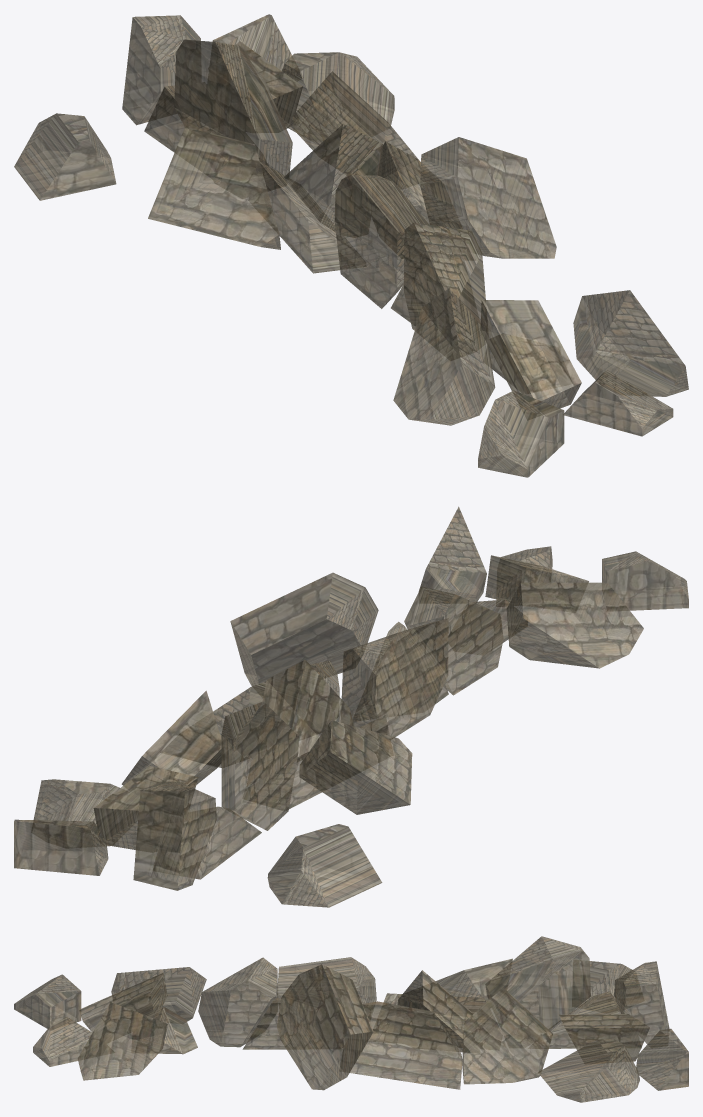
The model's file is BreakWallLarge_000018.obj.
The picture shows the model from 3 angles, top to bottom: view 1: azimuth 30°, elevation 25°; view 2: azimuth 150°, elevation 25°; view 3: azimuth 270°, elevation 25°; orthographic projection. The views are drawn at different scales.
Parts seen in each view (by area): view 1: Cube.057_cell.018_Cube.057_cell.017, Cube.057_cell.017_Cube.057_cell.016, Cube.057_cell.014_Cube.057_cell.013, Cube.057_cell.021_Cube.057_cell.020, Cube.057_cell.013_Cube.057_cell.012, Cube.057_cell.007_Cube.057_cell.006, Cube.057_cell.011_Cube.057_cell.010, Cube.057_cell.010_Cube.057_cell.009, Cube.057_cell.001_Cube.057_cell.000, Cube.057_cell.015_Cube.057_cell.014, Cube.057_cell.003_Cube.057_cell.002, Cube.057_cell_Cube.057_cell.022 (+8 smaller); view 2: Cube.057_cell.018_Cube.057_cell.017, Cube.057_cell.021_Cube.057_cell.020, Cube.057_cell.013_Cube.057_cell.012, Cube.057_cell.014_Cube.057_cell.013, Cube.057_cell.017_Cube.057_cell.016, Cube.057_cell.003_Cube.057_cell.002, Cube.057_cell.001_Cube.057_cell.000, Cube.057_cell.010_Cube.057_cell.009, Cube.057_cell.019_Cube.057_cell.018, Cube.057_cell_Cube.057_cell.022, Cube.057_cell.020_Cube.057_cell.019, Cube.057_cell.015_Cube.057_cell.014 (+8 smaller); view 3: Cube.057_cell.018_Cube.057_cell.017, Cube.057_cell.004_Cube.057_cell.003, Cube.057_cell.020_Cube.057_cell.019, Cube.057_cell.014_Cube.057_cell.013, Cube.057_cell.007_Cube.057_cell.006, Cube.057_cell.010_Cube.057_cell.009, Cube.057_cell.012_Cube.057_cell.011, Cube.057_cell.003_Cube.057_cell.002, Cube.057_cell.016_Cube.057_cell.015, Cube.057_cell.019_Cube.057_cell.018, Cube.057_cell_Cube.057_cell.022, Cube.057_cell.021_Cube.057_cell.020 (+10 smaller).
Part boxes in pixels (box(x1,y1,x2,y2)): Cube.057_cell.018_Cube.057_cell.017: box(420, 137, 556, 258); Cube.057_cell.017_Cube.057_cell.016: box(148, 126, 280, 249); Cube.057_cell.014_Cube.057_cell.013: box(174, 39, 292, 175); Cube.057_cell.021_Cube.057_cell.020: box(393, 288, 495, 425); Cube.057_cell.013_Cube.057_cell.012: box(334, 174, 428, 308); Cube.057_cell.007_Cube.057_cell.006: box(573, 290, 688, 396); Cube.057_cell.011_Cube.057_cell.010: box(480, 300, 581, 408); Cube.057_cell.010_Cube.057_cell.009: box(404, 222, 485, 330); Cube.057_cell.001_Cube.057_cell.000: box(14, 113, 116, 200); Cube.057_cell.015_Cube.057_cell.014: box(478, 390, 564, 477); Cube.057_cell.003_Cube.057_cell.002: box(122, 15, 200, 125); Cube.057_cell_Cube.057_cell.022: box(283, 124, 382, 232); Cube.057_cell.018_Cube.057_cell.017: box(230, 572, 378, 686); Cube.057_cell.021_Cube.057_cell.020: box(506, 582, 643, 668); Cube.057_cell.013_Cube.057_cell.012: box(341, 618, 448, 737); Cube.057_cell.014_Cube.057_cell.013: box(221, 701, 298, 830); Cube.057_cell.017_Cube.057_cell.016: box(299, 720, 412, 814); Cube.057_cell.003_Cube.057_cell.002: box(133, 781, 216, 890); Cube.057_cell.001_Cube.057_cell.000: box(267, 824, 382, 907); Cube.057_cell.010_Cube.057_cell.009: box(404, 586, 503, 695); Cube.057_cell.019_Cube.057_cell.018: box(14, 819, 108, 875); Cube.057_cell_Cube.057_cell.022: box(262, 659, 353, 757); Cube.057_cell.020_Cube.057_cell.019: box(121, 690, 221, 785); Cube.057_cell.015_Cube.057_cell.014: box(602, 551, 688, 610); Cube.057_cell.018_Cube.057_cell.017: box(277, 964, 373, 1090); Cube.057_cell.004_Cube.057_cell.003: box(349, 1001, 462, 1089); Cube.057_cell.020_Cube.057_cell.019: box(462, 987, 552, 1084); Cube.057_cell.014_Cube.057_cell.013: box(485, 936, 590, 1029); Cube.057_cell.007_Cube.057_cell.006: box(77, 1002, 167, 1080); Cube.057_cell.010_Cube.057_cell.009: box(198, 957, 277, 1047); Cube.057_cell.012_Cube.057_cell.011: box(540, 1039, 639, 1102); Cube.057_cell.003_Cube.057_cell.002: box(614, 961, 669, 1044); Cube.057_cell.016_Cube.057_cell.015: box(559, 1014, 649, 1061); Cube.057_cell.019_Cube.057_cell.018: box(636, 1028, 688, 1090); Cube.057_cell_Cube.057_cell.022: box(397, 970, 473, 1052); Cube.057_cell.021_Cube.057_cell.020: box(111, 967, 206, 1021).
Bounding box in the file's own units: 29.88 × 11.15 × 70.32.
Materials: 2 (2 with a texture image).
